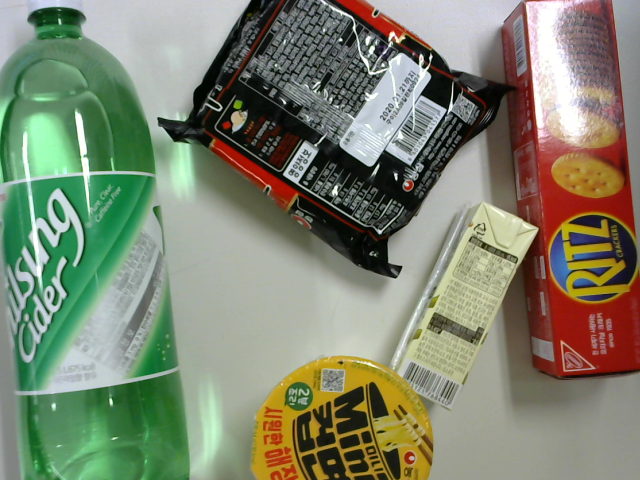99.89_Soymilk: (379, 204, 543, 410)
Chilseong_Cider_1.5L: (1, 4, 203, 480)
Hejangmini: (243, 354, 431, 480)
Ritz_Cracker: (497, 2, 640, 376)
Sinramen_Black: (169, 2, 487, 280)
